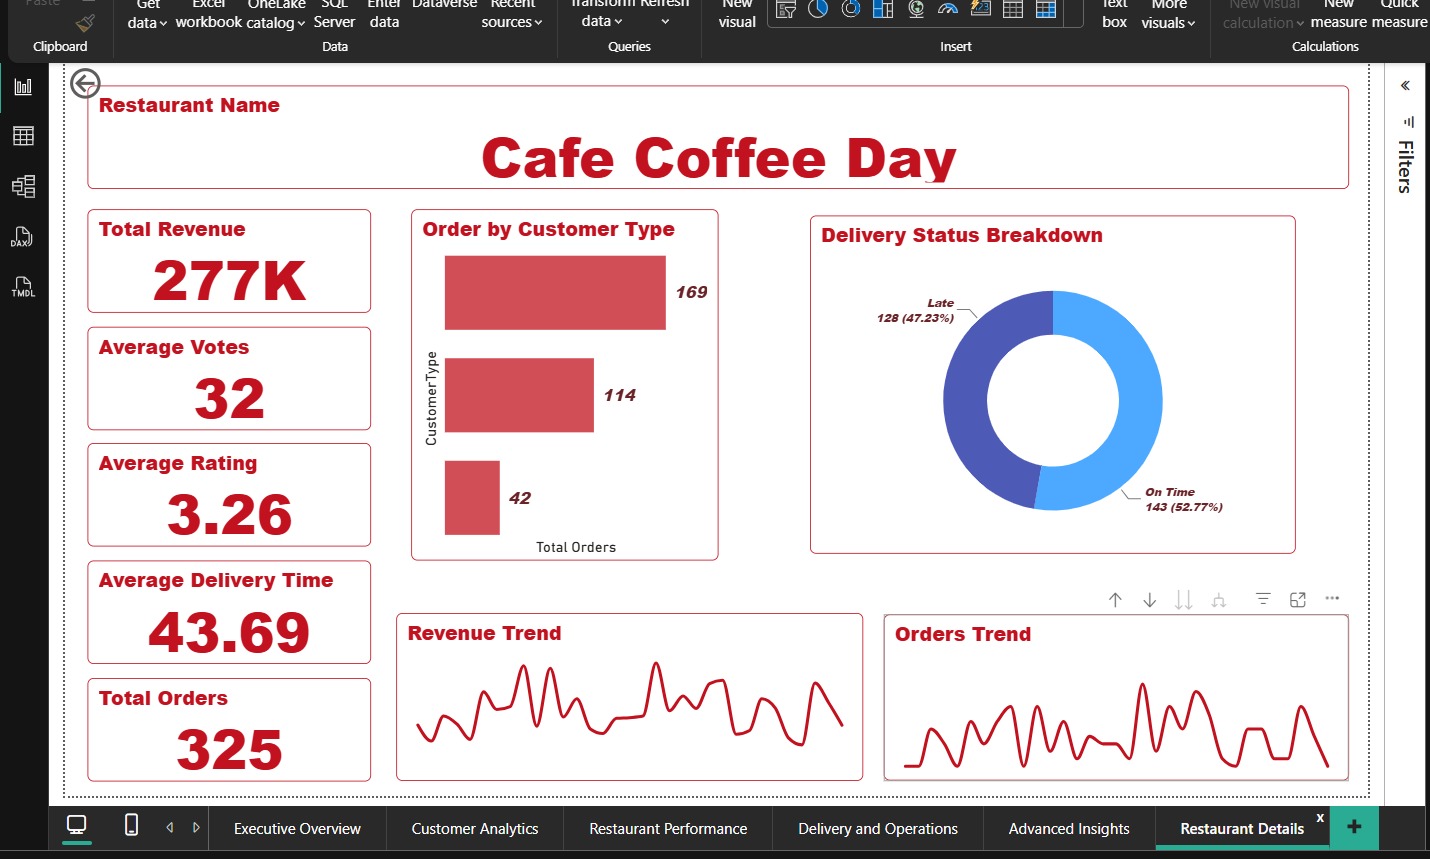

Layout of this report page (visuals, bound fields, positions):
{"tool":"powerbi","page":{"name":"Restaurant Details","canvas":[1280,720],"ordinal":5},"visuals":[{"type":"card","title":"Total Revenue","fields":{"Values":["Orders.Total Revenue"]},"box":[21.7,143.3,278.3,101.7],"z":0},{"type":"card","title":"Average Votes","fields":{"Values":["Orders.Average Votes"]},"box":[21.7,258.3,278.3,101.7],"z":1000},{"type":"card","title":"Average Rating","fields":{"Values":["Orders.Average Rating"]},"box":[21.7,373.3,278.3,101.7],"z":2000},{"type":"card","title":"Average Delivery Time","fields":{"Values":["Orders.Average Delivery Time"]},"box":[21.7,488.3,278.3,101.7],"z":3000},{"type":"card","title":"Total Orders","fields":{"Values":["Orders.Total Orders"]},"box":[21.7,603.3,278.3,101.7],"z":4000},{"type":"card","title":"Restaurant Name","fields":{"Values":["Min(Restaurants.name)"]},"box":[21.7,21.7,1238.3,101.7],"z":5000},{"type":"lineChart","title":"Revenue Trend","fields":{"Y":["Orders.Total Revenue"],"Category":["DateTable.Date.Variation.Date Hierarchy.Year","DateTable.Date.Variation.Date Hierarchy.Month"]},"box":[325,540,458.3,165],"z":6000},{"type":"lineChart","title":"Orders Trend","fields":{"Category":["DateTable.Date.Variation.Date Hierarchy.Year","DateTable.Date.Variation.Date Hierarchy.Month"],"Y":["Orders.Total Orders"]},"box":[803.3,541.7,456.7,163.3],"z":7000},{"type":"barChart","title":"Order by Customer Type","fields":{"Y":["Orders.Total Orders"],"Category":["Customers.CustomerType"]},"box":[340,143.3,301.7,345],"z":8000},{"type":"actionButton","box":[0,0,100,40],"z":9000},{"type":"donutChart","title":"Delivery Status Breakdown","fields":{"Category":["Orders.DeliveryStatus"],"Y":["Orders.Total Orders"]},"box":[731.7,150,476.7,331.7],"z":10000}]}

Visuals, with their boxes on the page's 1280x720 design canvas (x1, y1, x2, y2). These are canvas units, not pixel positions in the 1430x859 screenshot, which may show the page scaled, cropped or inside an application window:
"Total Revenue" card: BBox(22, 143, 300, 245)
"Average Votes" card: BBox(22, 258, 300, 360)
"Average Rating" card: BBox(22, 373, 300, 475)
"Average Delivery Time" card: BBox(22, 488, 300, 590)
"Total Orders" card: BBox(22, 603, 300, 705)
"Restaurant Name" card: BBox(22, 22, 1260, 123)
"Revenue Trend" lineChart: BBox(325, 540, 783, 705)
"Orders Trend" lineChart: BBox(803, 542, 1260, 705)
"Order by Customer Type" barChart: BBox(340, 143, 642, 488)
actionButton: BBox(0, 0, 100, 40)
"Delivery Status Breakdown" donutChart: BBox(732, 150, 1208, 482)
